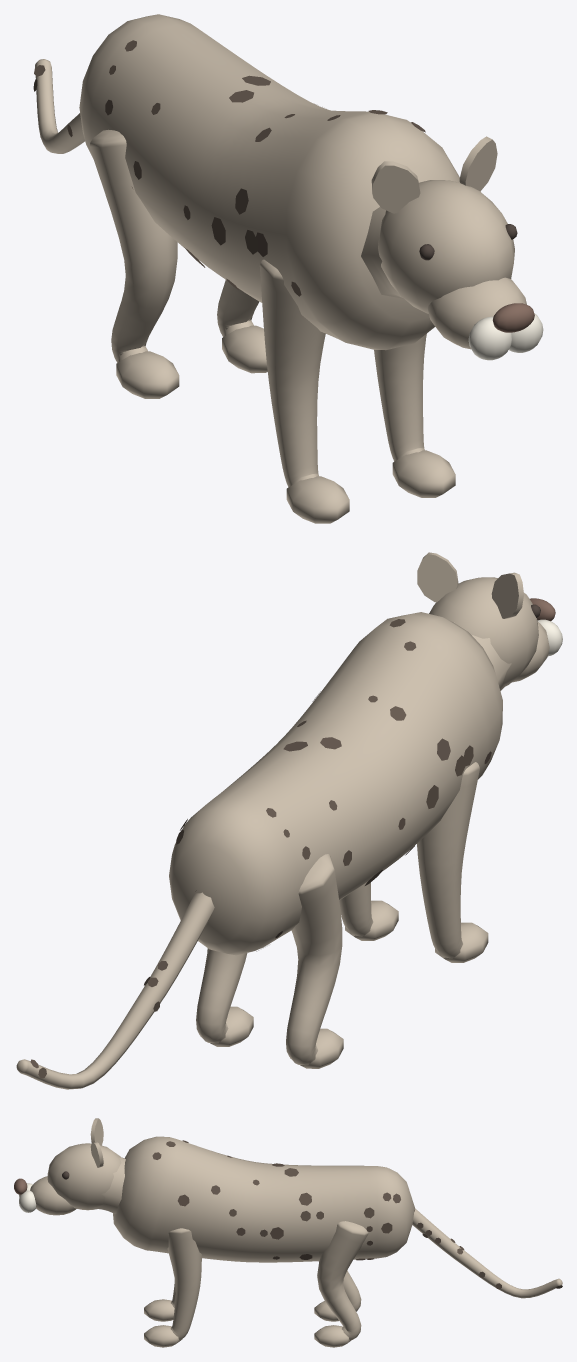
The model's file is savanna-wildlife-spotted-hyena-767ec4a0__6544.glb.
The picture shows the model from 3 angles, top to bottom: view 1: azimuth 30°, elevation 25°; view 2: azimuth 150°, elevation 25°; view 3: azimuth 270°, elevation 25°; orthographic projection. The views are drawn at different scales.
Parts seen in each view (by area): view 1: spotted-hyena; view 2: spotted-hyena; view 3: spotted-hyena.
Boxes of the visible parts, left/top/right/bottom form: spotted-hyena: left=33, top=14, right=543, bottom=523; spotted-hyena: left=16, top=552, right=562, bottom=1089; spotted-hyena: left=14, top=1118, right=562, bottom=1347.
Size of the model in its own units: 0.6429 by 1.42 by 3.51.
